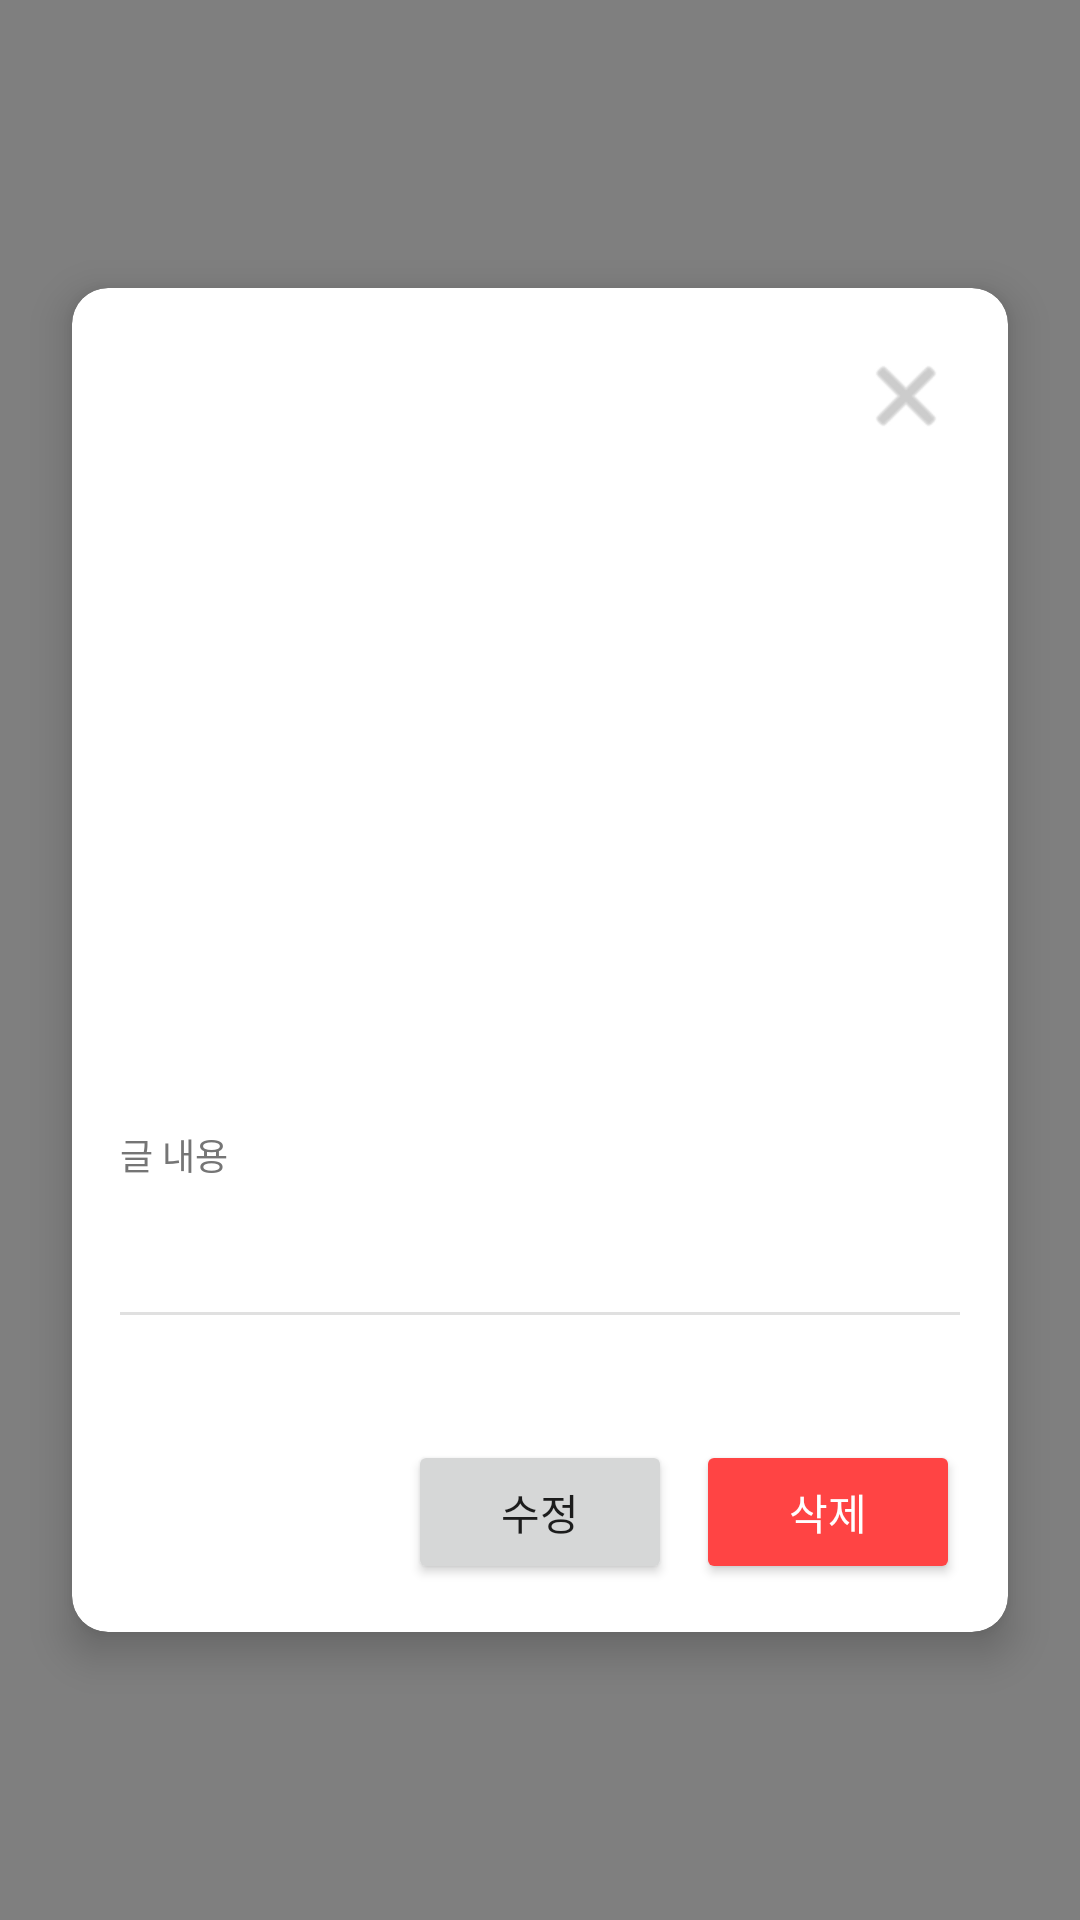

Icon click points for this 1080px x 1920px phone screenshot, format point (x, y):
닫기: point (906, 396)
